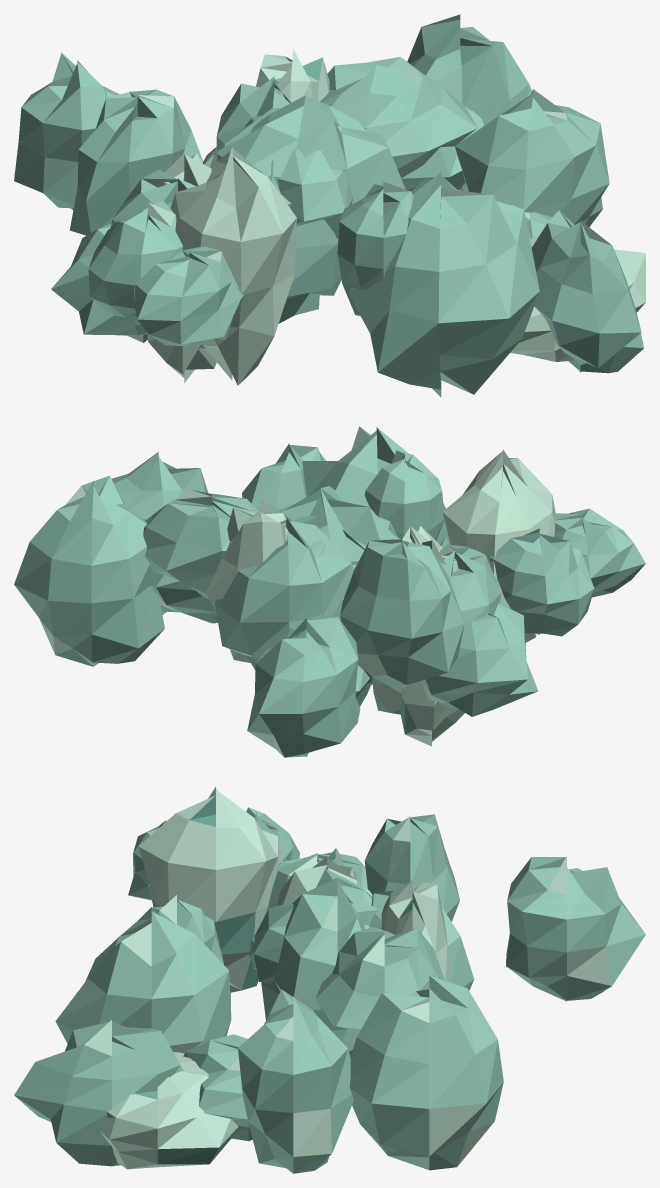
The model's file is jade.glb.
3 views of the same model, one above another, from view 1: azimuth 30°, elevation 25°; view 2: azimuth 150°, elevation 25°; view 3: azimuth 270°, elevation 25° (orthographic). The views are drawn at different scales.
Parts seen in each view (by area): view 1: jade; view 2: jade; view 3: jade.
Part boxes in pixels (left/top/right/bottom): jade: left=14, top=14, right=645, bottom=396; jade: left=14, top=426, right=645, bottom=757; jade: left=14, top=786, right=645, bottom=1173.
Size of the model in its own units: 1.04 by 0.5292 by 1.12.
